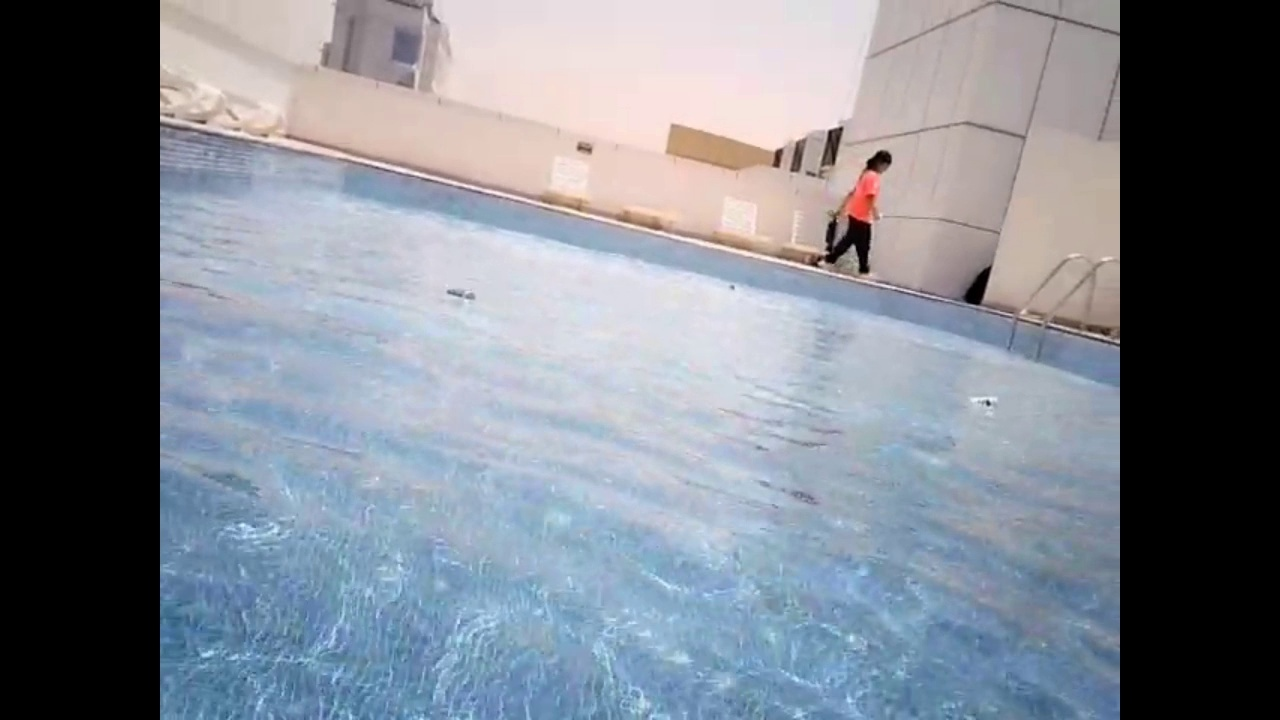debris: (962, 385, 1002, 415), (440, 283, 476, 308), (723, 279, 736, 292)
